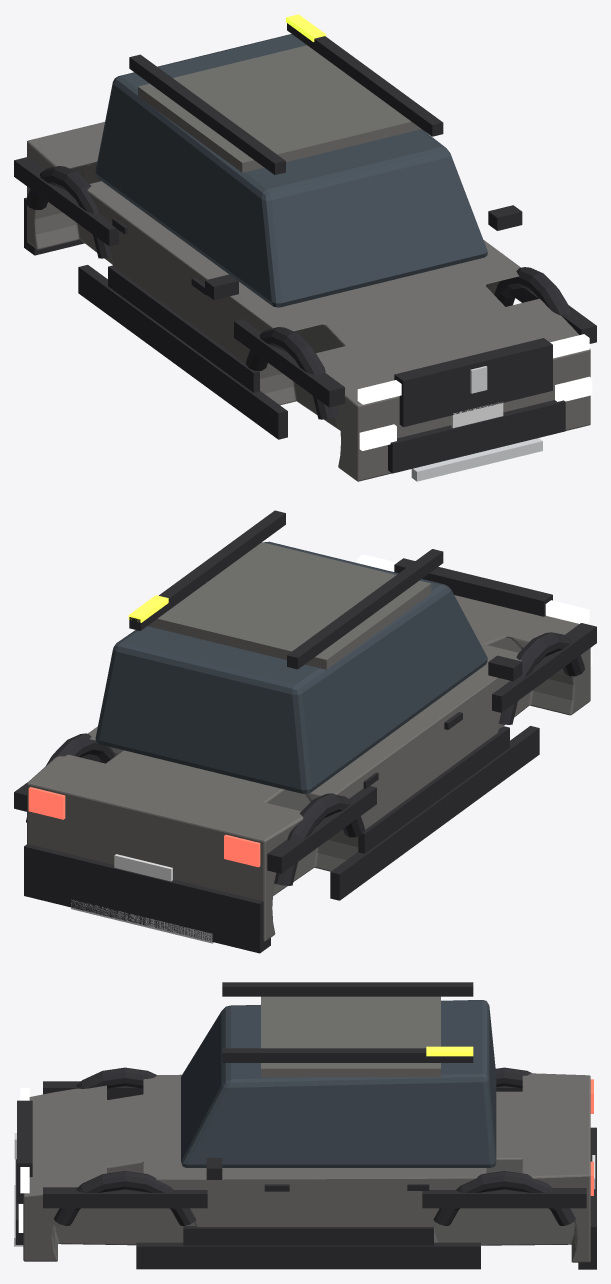
File: kwid.glb
3 views of the same model, one above another, from view 1: azimuth 30°, elevation 25°; view 2: azimuth 150°, elevation 25°; view 3: azimuth 270°, elevation 25° (orthographic). The views are drawn at different scales.
Parts seen in each view (by area): view 1: Kwid_Cabin, Kwid_LowerBody, Kwid_Roof, Kwid_Grille, Kwid_Clad_L, Kwid_Intake, Kwid_DoorClad_L, Kwid_Rail_L, Kwid_Rail_R, Kwid_Flare, Kwid_Flare.002, Kwid_Arch (+11 smaller); view 2: Kwid_LowerBody, Kwid_Cabin, Kwid_Roof, Kwid_RearBumper, Kwid_Clad_L, Kwid_DoorClad_L, Kwid_Rail_L, Kwid_Rail_R, Kwid_Grille, Kwid_Flare.002, Kwid_Flare, Kwid_Arch.002 (+8 smaller); view 3: Kwid_LowerBody, Kwid_Cabin, Kwid_Roof, Kwid_Clad_R, Kwid_DoorClad_R, Kwid_Rail_L, Kwid_Rail_R, Kwid_Flare.001, Kwid_Flare.003, Kwid_Arch.001, Kwid_Arch.003, Kwid_Grille (+5 smaller).
Part boxes in pixels (box(x1,y1,x2,y2)): Kwid_Cabin: box(95, 34, 487, 307); Kwid_LowerBody: box(27, 122, 590, 481); Kwid_Roof: box(138, 45, 421, 172); Kwid_Grille: box(394, 338, 552, 426); Kwid_Clad_L: box(78, 265, 287, 439); Kwid_Intake: box(388, 400, 565, 473); Kwid_DoorClad_L: box(108, 265, 259, 392); Kwid_Rail_L: box(129, 54, 285, 174); Kwid_Rail_R: box(287, 23, 443, 136); Kwid_Flare: box(234, 319, 344, 407); Kwid_Flare.002: box(14, 157, 118, 246); Kwid_Arch: box(246, 327, 338, 419); Kwid_LowerBody: box(27, 595, 590, 941); Kwid_Cabin: box(95, 541, 487, 794); Kwid_Roof: box(148, 542, 431, 669); Kwid_RearBumper: box(24, 844, 270, 953); Kwid_Clad_L: box(330, 726, 539, 900); Kwid_DoorClad_L: box(358, 726, 509, 853); Kwid_Rail_L: box(287, 549, 443, 669); Kwid_Rail_R: box(129, 510, 285, 630); Kwid_Grille: box(394, 558, 552, 616); Kwid_Flare.002: box(267, 786, 376, 873); Kwid_Flare: box(492, 623, 596, 712); Kwid_Arch.002: box(274, 793, 364, 885); Kwid_LowerBody: box(23, 1073, 590, 1262); Kwid_Cabin: box(181, 1000, 496, 1167); Kwid_Roof: box(261, 996, 440, 1077); Kwid_Clad_R: box(136, 1242, 480, 1269); Kwid_DoorClad_R: box(183, 1226, 433, 1245); Kwid_Rail_L: box(222, 982, 473, 996); Kwid_Rail_R: box(222, 1048, 473, 1062); Kwid_Flare.001: box(43, 1187, 207, 1208); Kwid_Flare.003: box(422, 1188, 586, 1208); Kwid_Arch.001: box(54, 1171, 195, 1225); Kwid_Arch.003: box(433, 1171, 575, 1225); Kwid_Grille: box(17, 1100, 32, 1203).
Bounding box in the file's own units: 1.96 × 1.44 × 3.72.
